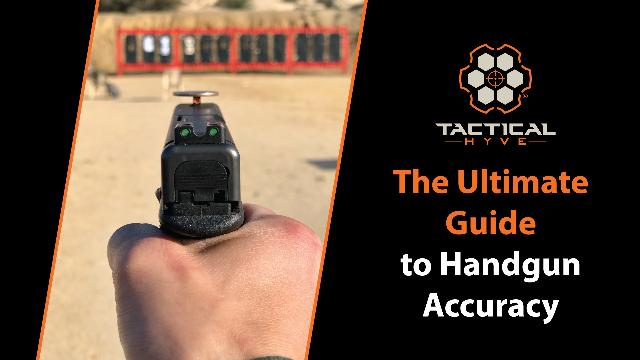handgun: (153, 88, 249, 246)
